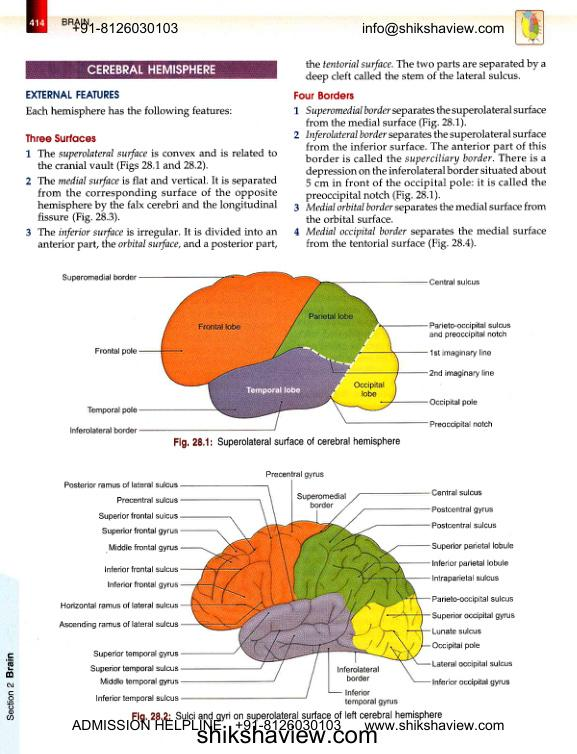caption: (132, 711, 443, 721), (173, 436, 401, 449)
header: (61, 17, 90, 26)
image: (53, 464, 523, 709), (52, 263, 522, 435)
list: (292, 105, 548, 251), (24, 148, 278, 252)
section-heading: (86, 63, 217, 75)
sub-section-heading: (25, 89, 121, 100), (24, 133, 97, 144), (293, 90, 355, 101)
text: (304, 58, 548, 85), (24, 105, 233, 119)
